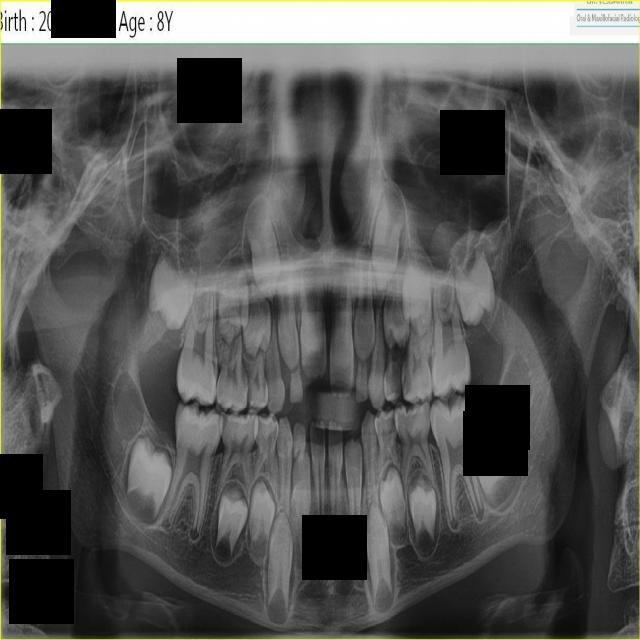Sterngold Implant: (398, 358, 416, 396), (384, 411, 398, 437), (399, 410, 419, 427), (389, 365, 400, 395), (220, 414, 231, 437), (245, 381, 255, 404)
